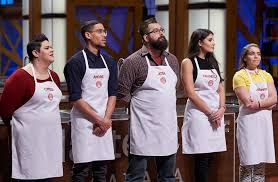Bad: (63, 18, 180, 182), (1, 20, 118, 182), (118, 19, 225, 182), (181, 28, 278, 182)
